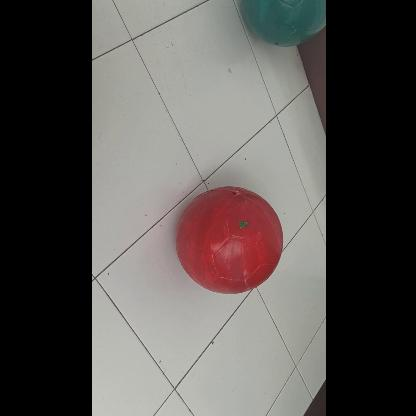red_ball: (176, 186, 283, 293)
